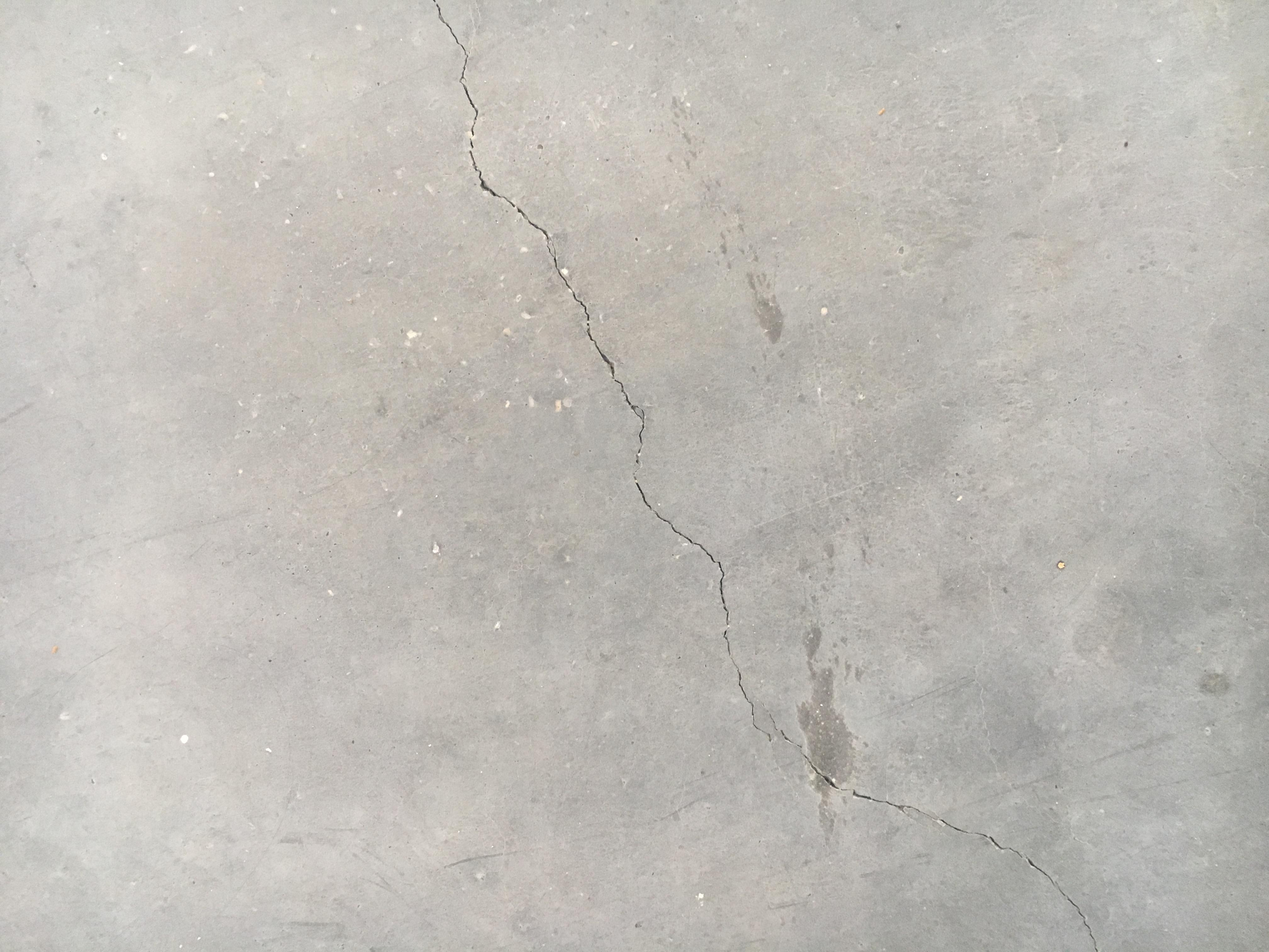Vertical Crack: (431, 3, 1100, 947)
